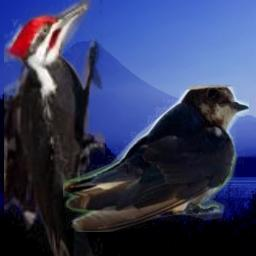Swallow: (63, 85, 249, 232)
Woodpecker: (4, 0, 105, 256)
